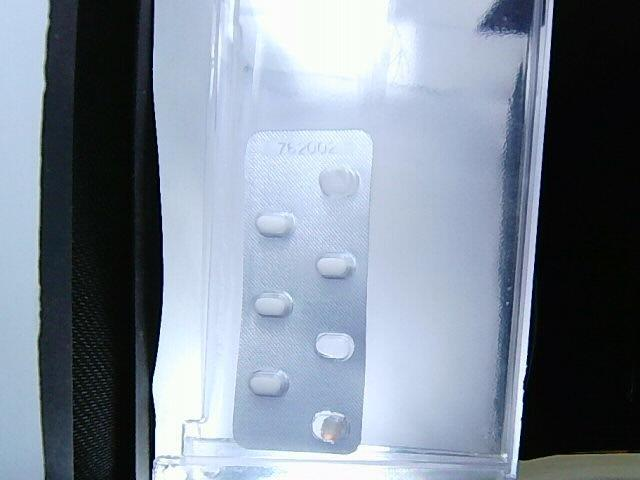Light Front: (229, 130, 374, 457)
No Pill Front: (313, 410, 349, 443), (319, 168, 357, 198), (315, 333, 355, 361)
Pill Front: (254, 291, 294, 316), (249, 370, 289, 395), (255, 213, 295, 237), (316, 254, 356, 278)
